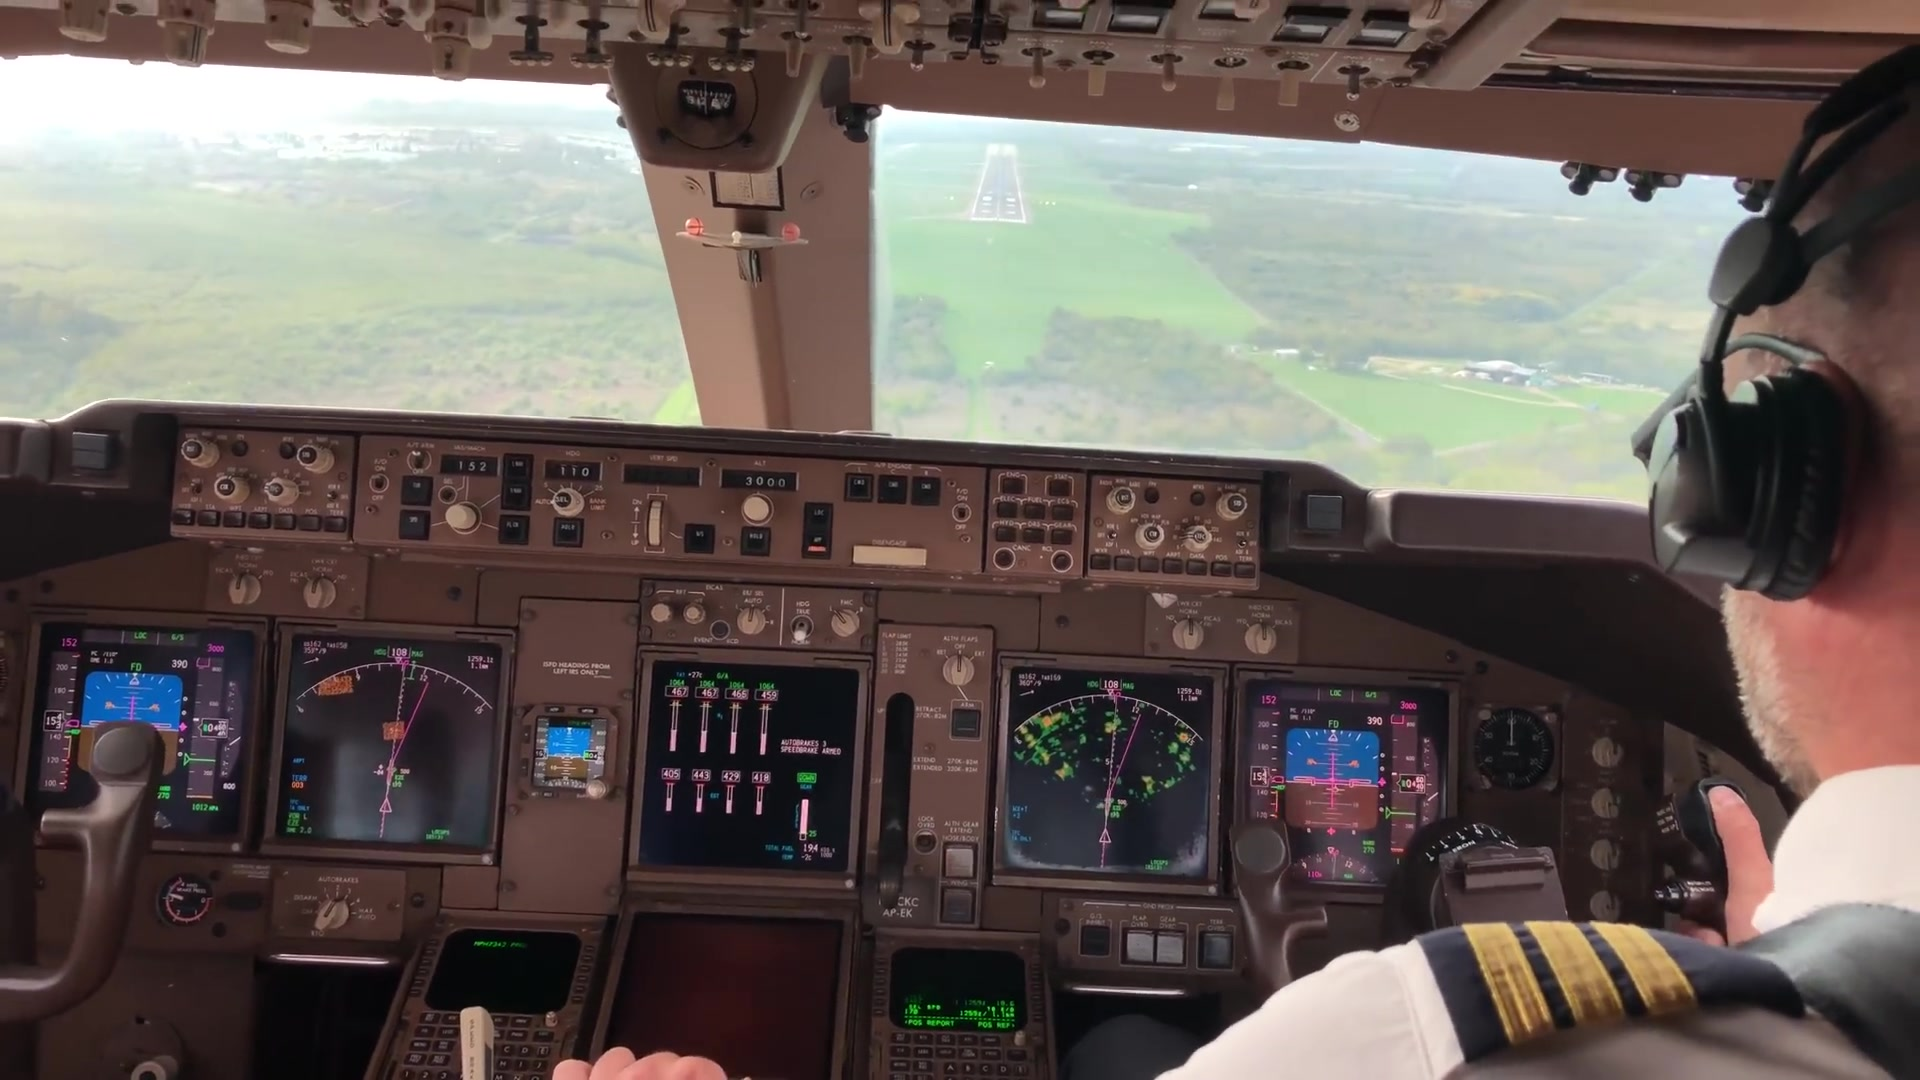runway: (965, 150, 1029, 225)
